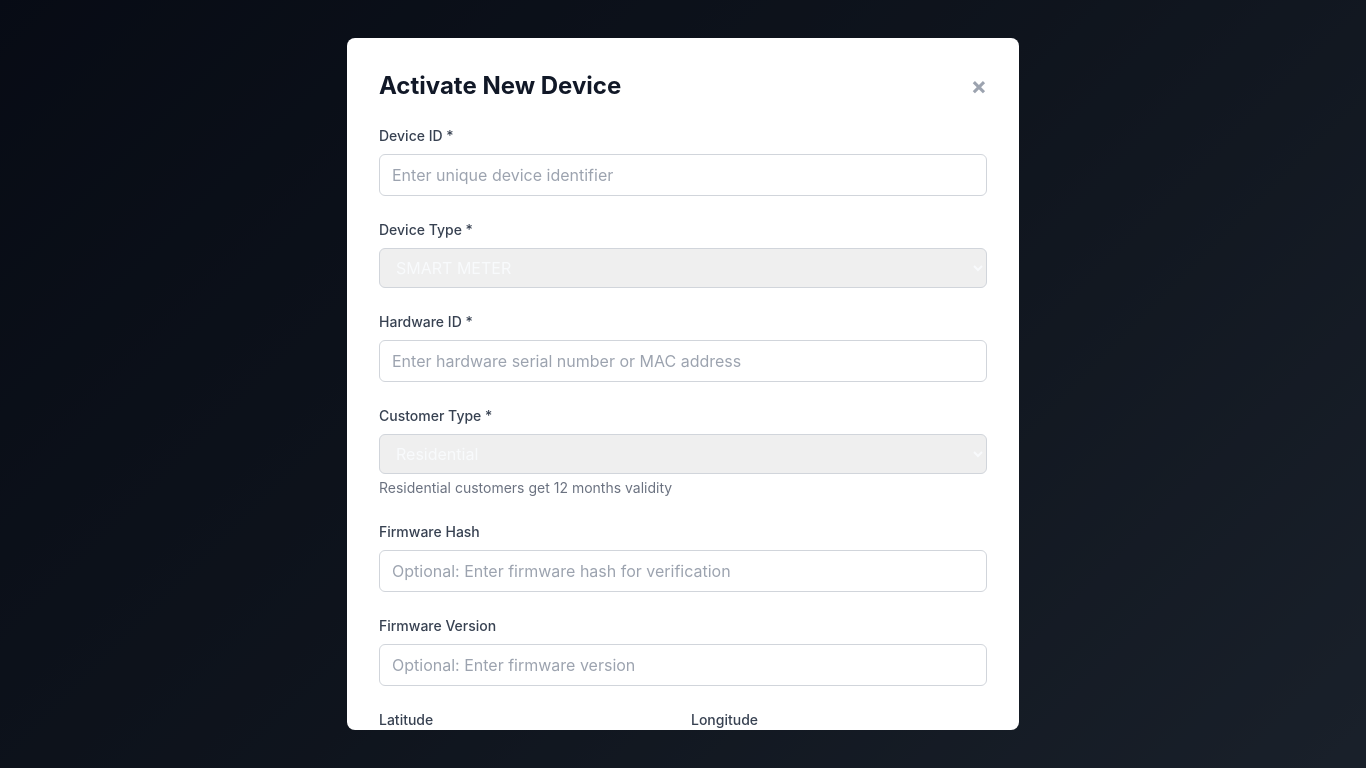
Test: DeviceActivationModal › Form Submission › should show error message on API failure
Step 1. Type "device-123" into the field labelled "Device ID *" → (683, 175), box [379,154,987,196]
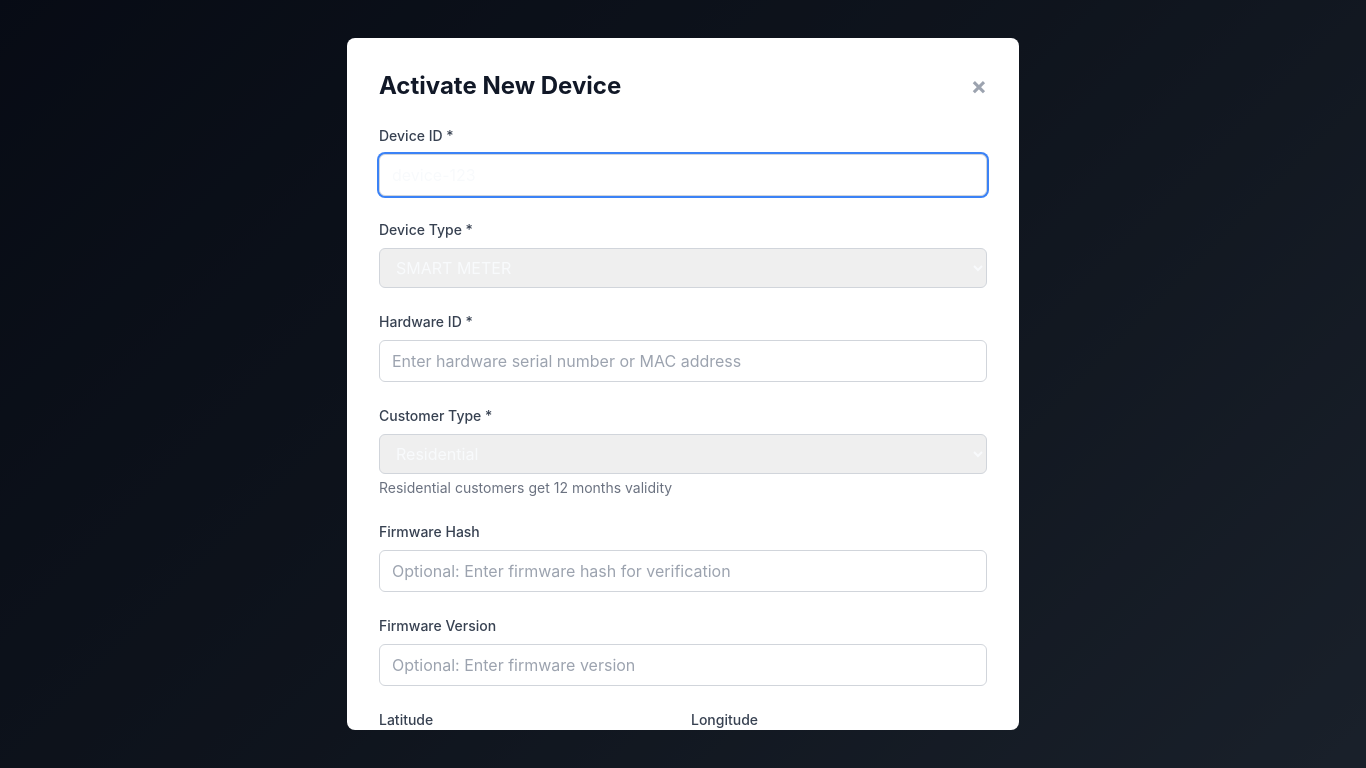
Step 2. Type "hw-123" into the field labelled "Hardware ID *" → (683, 361), box [379,340,987,382]
(page scrolled)
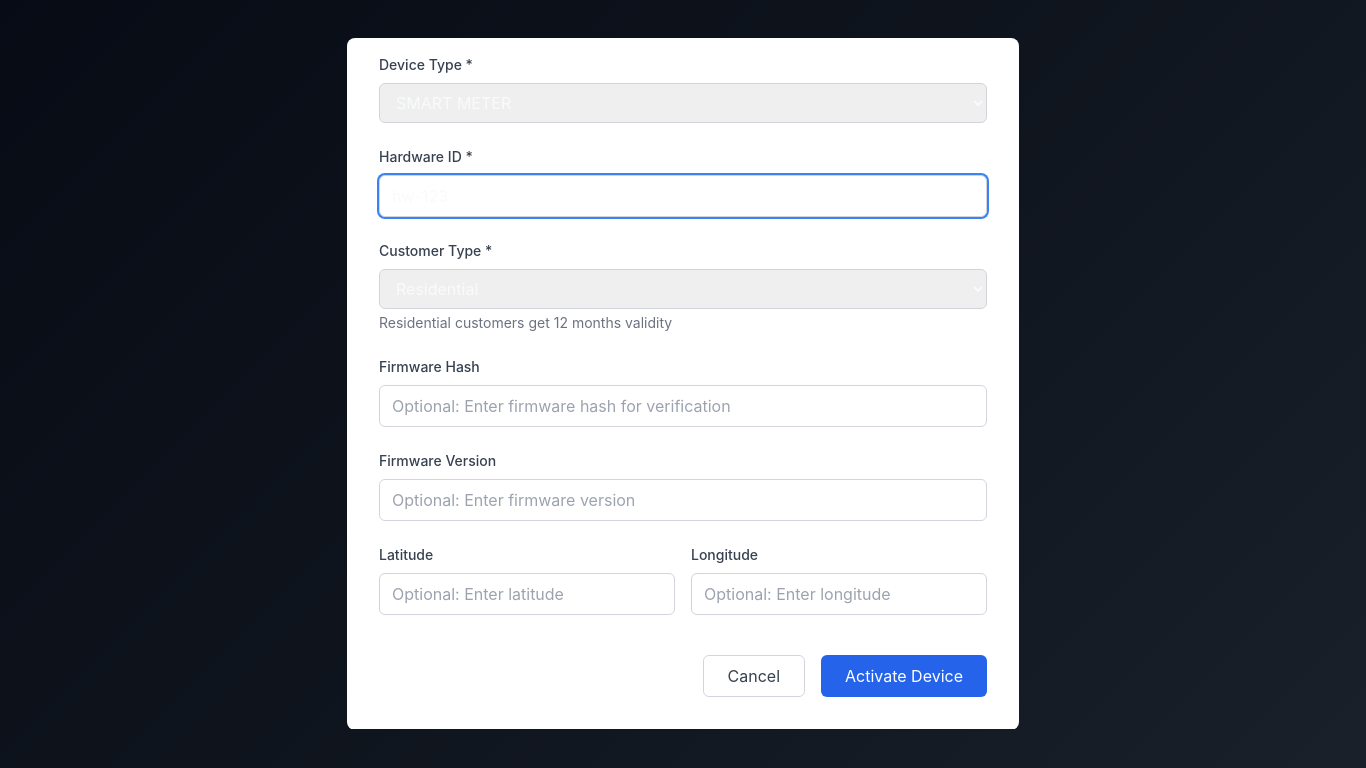
Step 3. Click the button "Activate Device" → (904, 676), box [821,655,987,697]
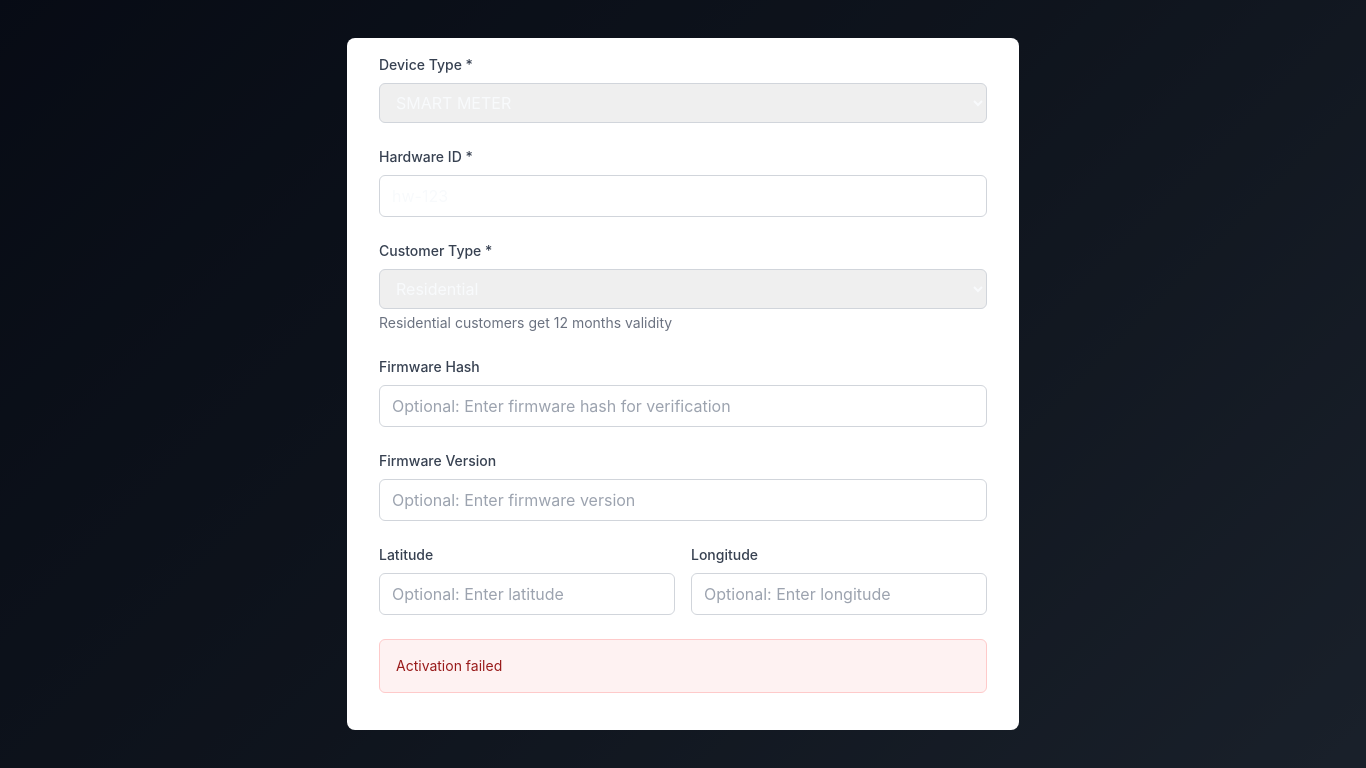
expect the text "Activation failed" is shown: met, box [396,657,502,674]
